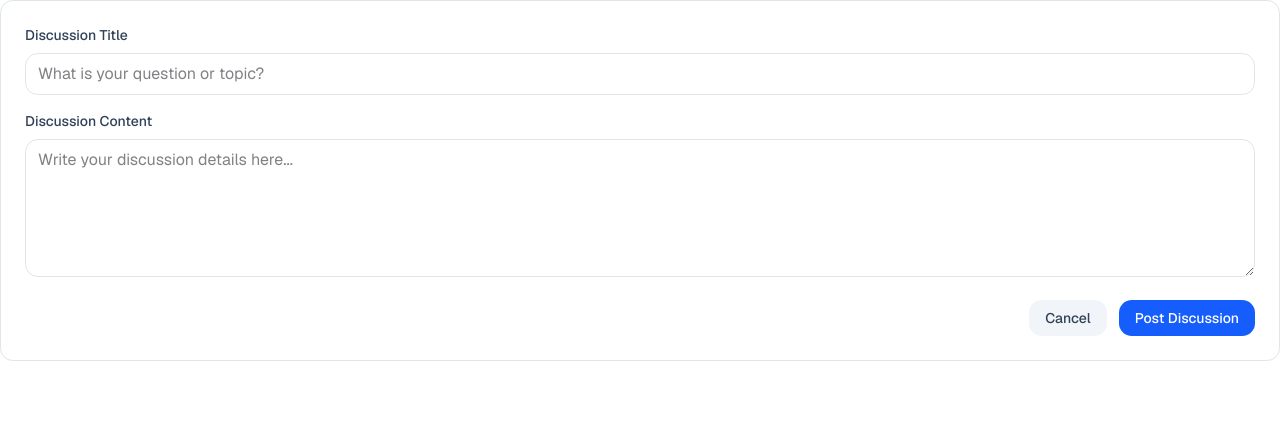
Test: DiscussionForm Component › should validate required fields
Click the button with test id "submit-discussion-btn" at x=1187, y=318, box [1119, 300, 1255, 336]
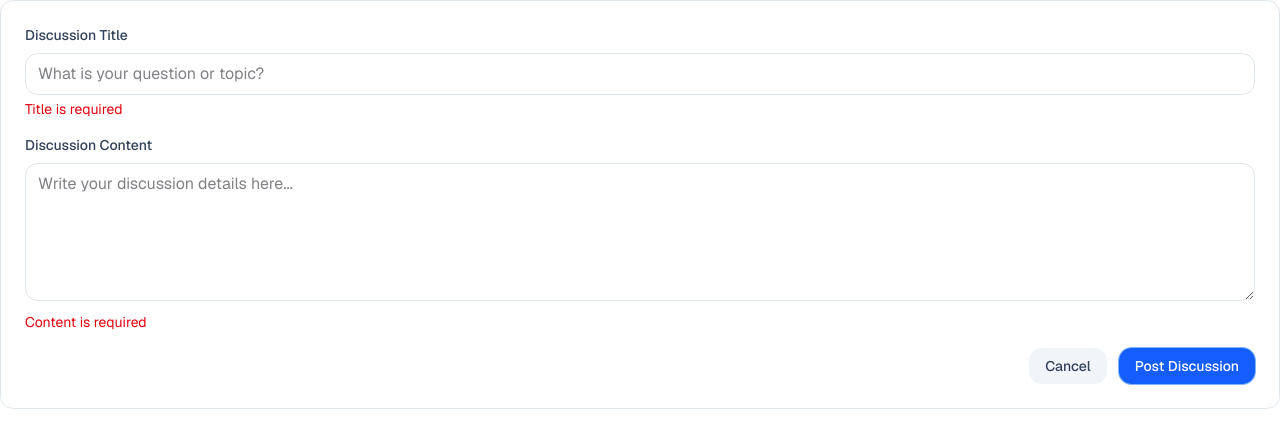
Now the text with test id "title-error" reads "Title is required", box [25, 100, 123, 118]
Now the text with test id "content-error" reads "Content is required", box [25, 313, 147, 331]
